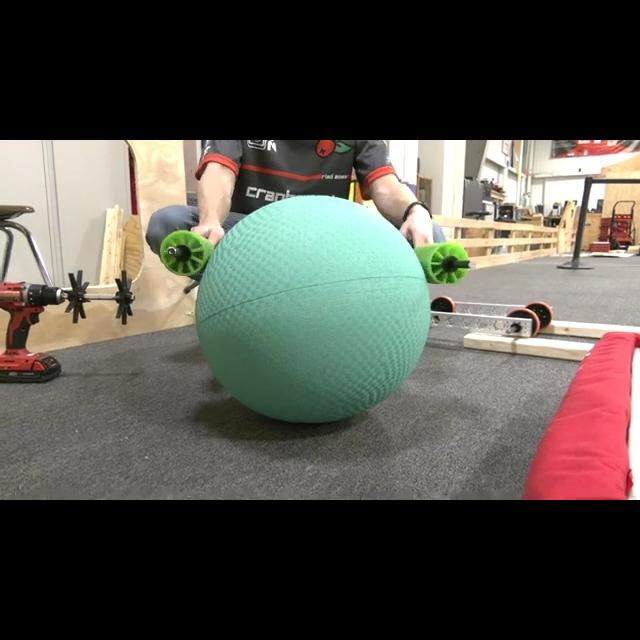ALGAE: (194, 192, 430, 424)
